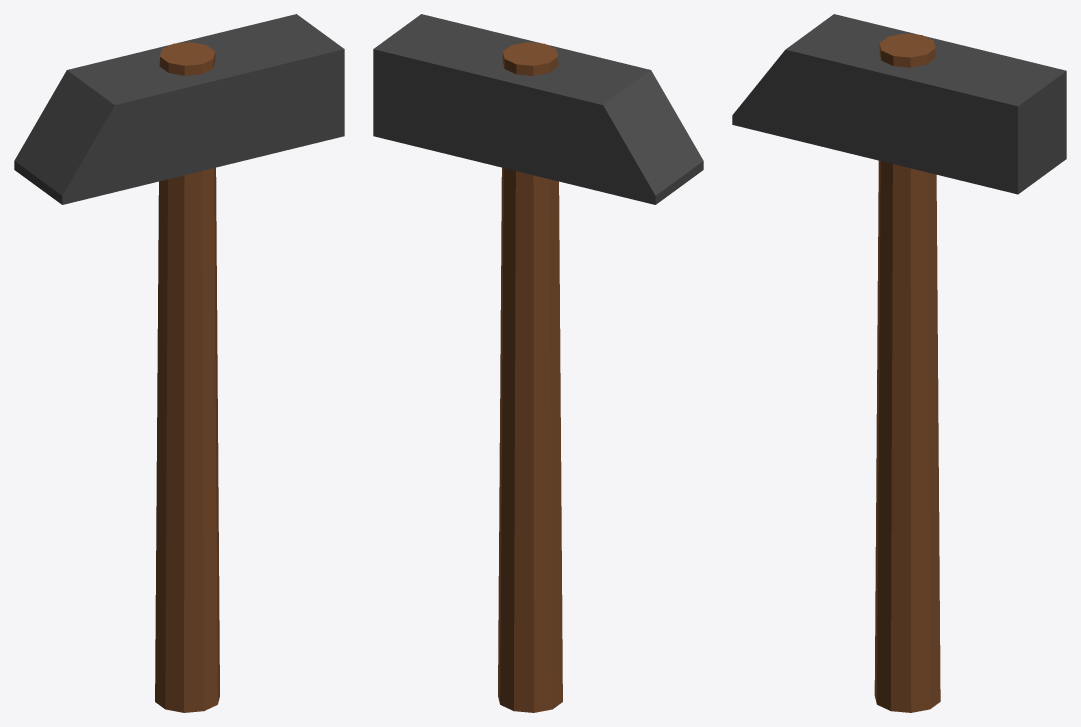
File: hammer.fbx
The picture shows the model from 3 angles, left to right: view 1: azimuth 30°, elevation 25°; view 2: azimuth 150°, elevation 25°; view 3: azimuth 330°, elevation 25°; orthographic projection.
Visible parts, largest first — view 1: Head, Haft; view 2: Head, Haft; view 3: Head, Haft.
Boxes of the visible parts, bbox=[...] form: Head: bbox=[14, 14, 344, 204]; Haft: bbox=[155, 42, 219, 712]; Head: bbox=[373, 14, 703, 204]; Haft: bbox=[498, 42, 562, 712]; Head: bbox=[732, 14, 1066, 194]; Haft: bbox=[874, 33, 940, 712].
Bounding box in the file's own units: 0.9364 × 2.04 × 0.276.
